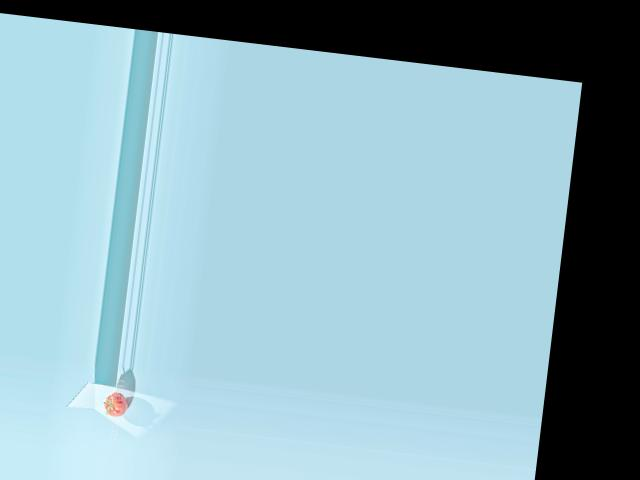tomato: (103, 390, 129, 417)
